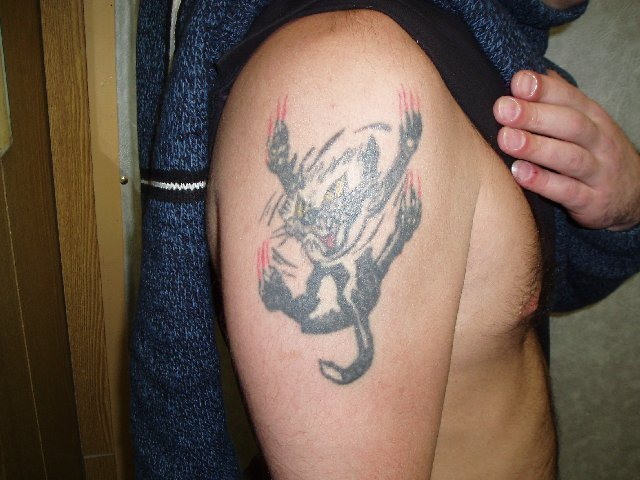tatu8_kot: (246, 77, 432, 381)
